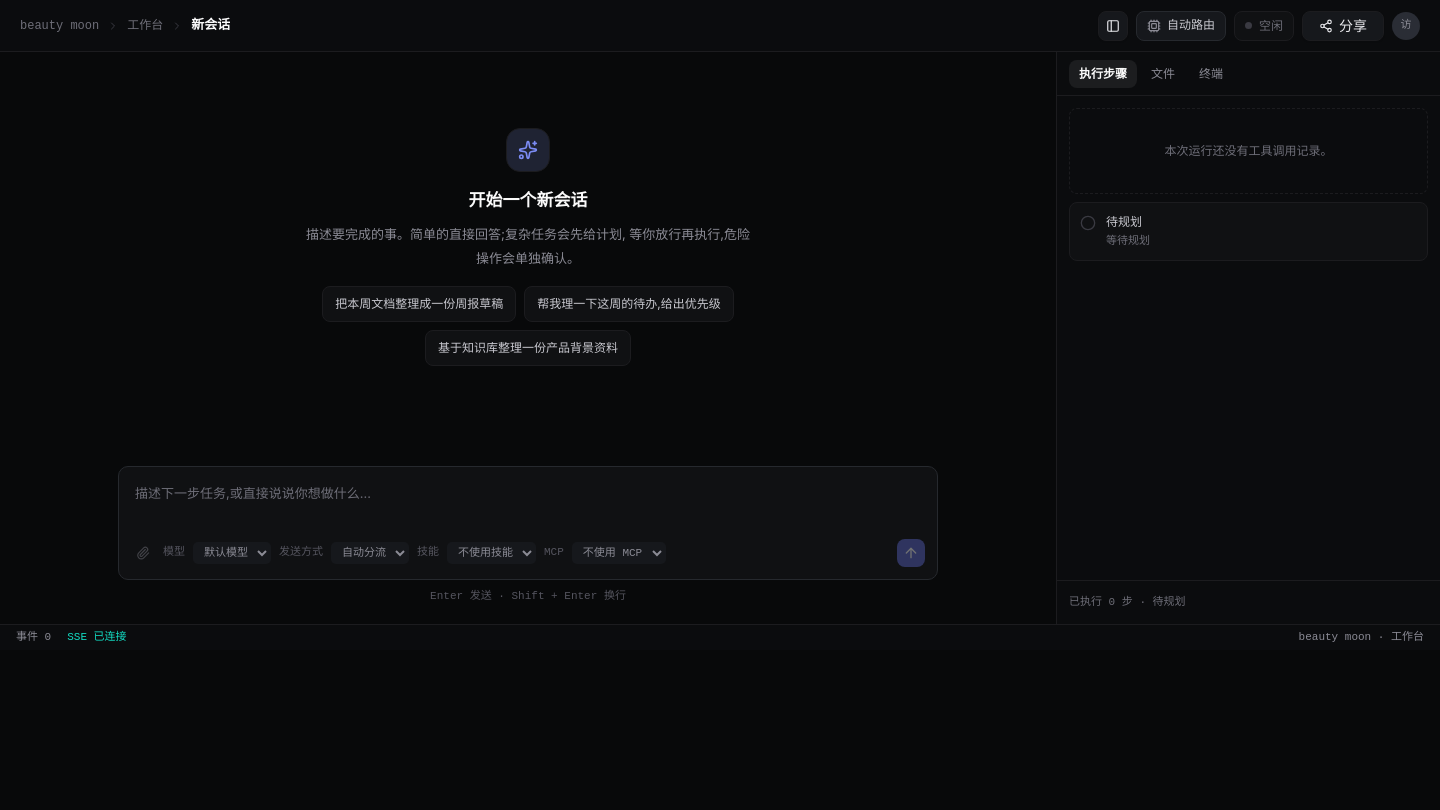
Test: ChatPage 发送与流式 › 简单会话:只回一条,不建任务、不查状态
Type "你好" into the text box labelled "描述下一步任务" at [528, 504], box [131,478,925,530]
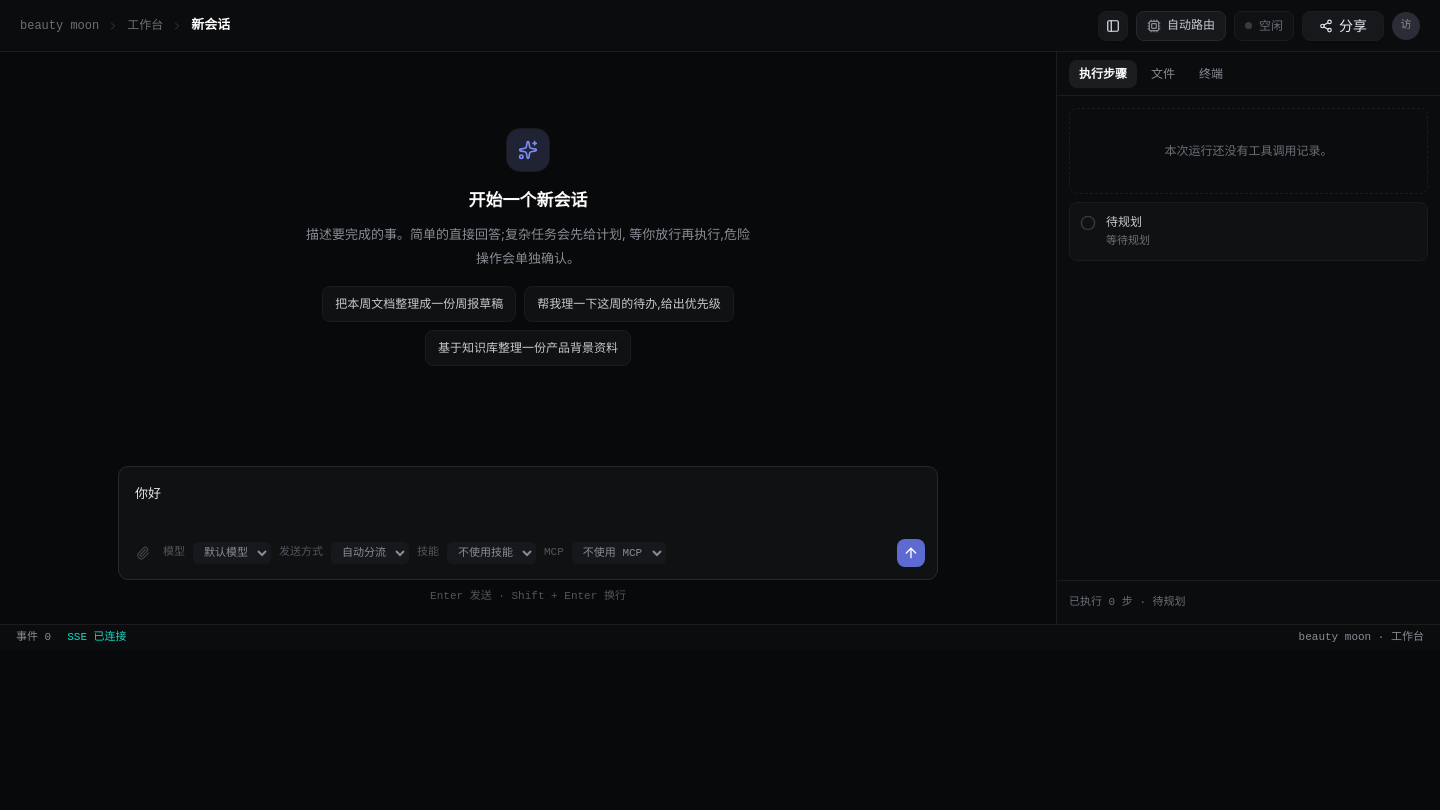
Click the button named "发送" at [911, 552], box [897,538,925,566]
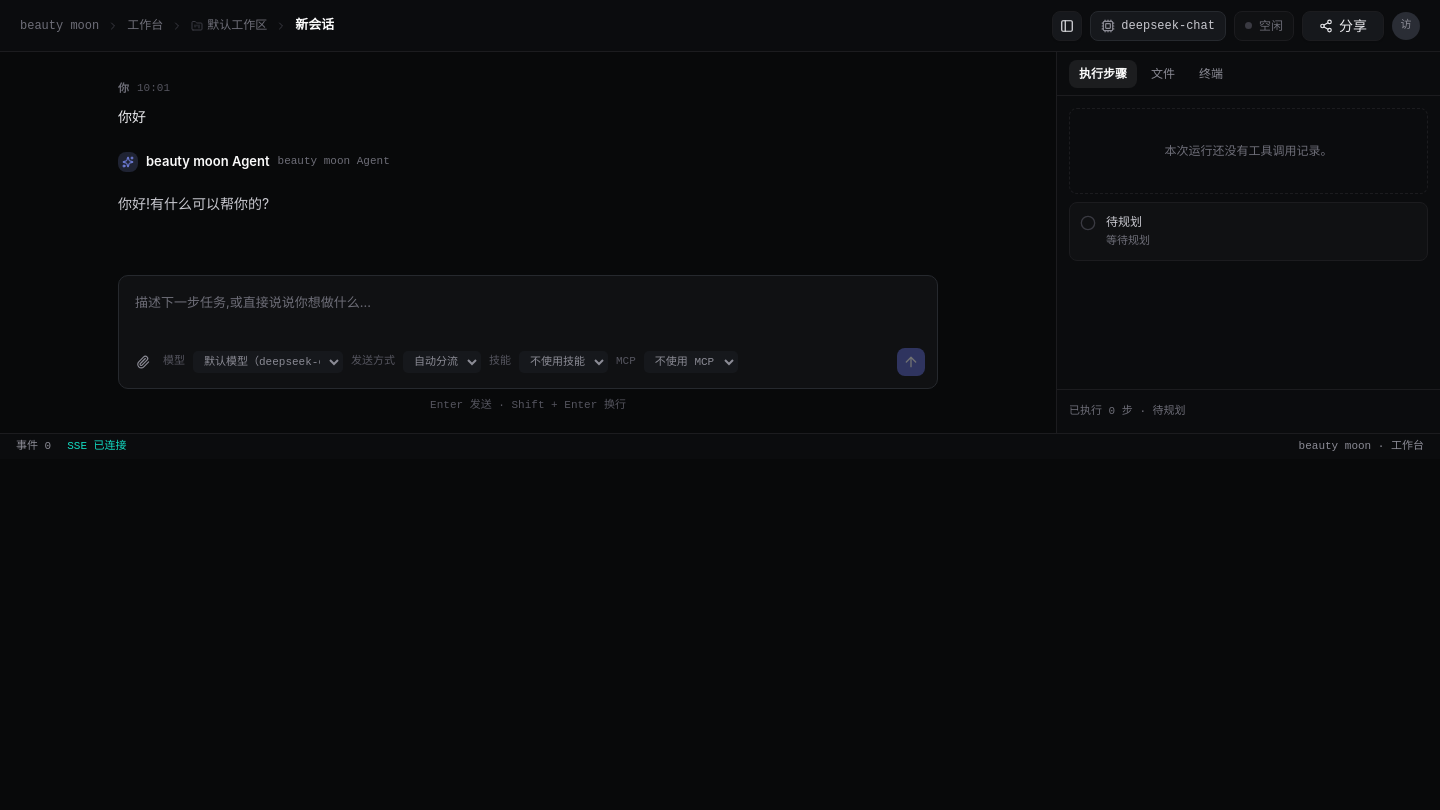
Now the text "你好!有什么可以帮你的?" is shown, box [118,194,269,212]
